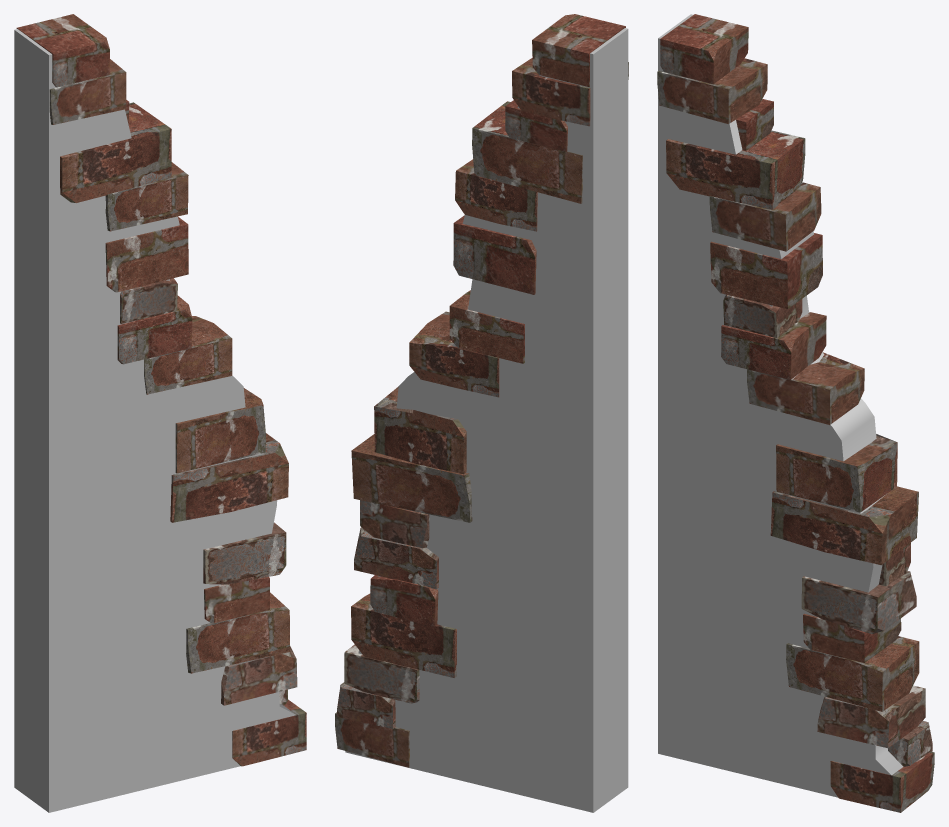
Rendered from SM_Wall_Ruined_12.fbx.
The picture shows the model from 3 angles, left to right: view 1: azimuth 30°, elevation 25°; view 2: azimuth 150°, elevation 25°; view 3: azimuth 330°, elevation 25°; orthographic projection. The views are drawn at different scales.
Visible parts, largest first — view 1: SM_Wall_Ruined_12_LOD0; view 2: SM_Wall_Ruined_12_LOD0; view 3: SM_Wall_Ruined_12_LOD0.
Part boxes in pixels (<box>): SM_Wall_Ruined_12_LOD0: <box>14,14,306,812</box>; SM_Wall_Ruined_12_LOD0: <box>335,14,628,812</box>; SM_Wall_Ruined_12_LOD0: <box>657,14,934,812</box>.
Size of what is drawn, in the model's own units: 213 by 601 by 60.23.
